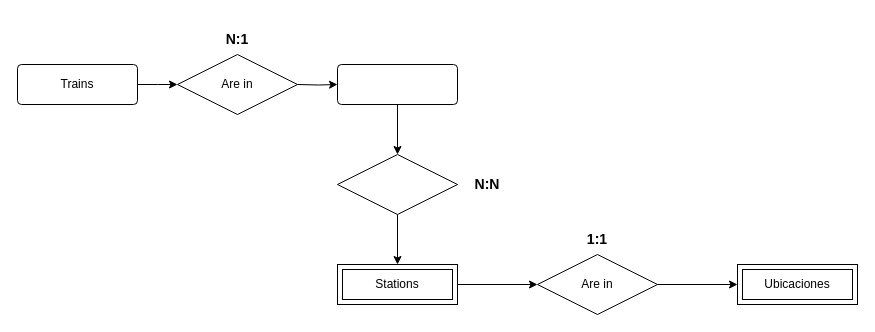
This 875x332 diagram has some shape labels left out. The shapes that lost their labels are listed below. From the top down, each one's centre as x and y in pixels, then its label:
At (397,84): "Lines".
At (397,184): "Have".
